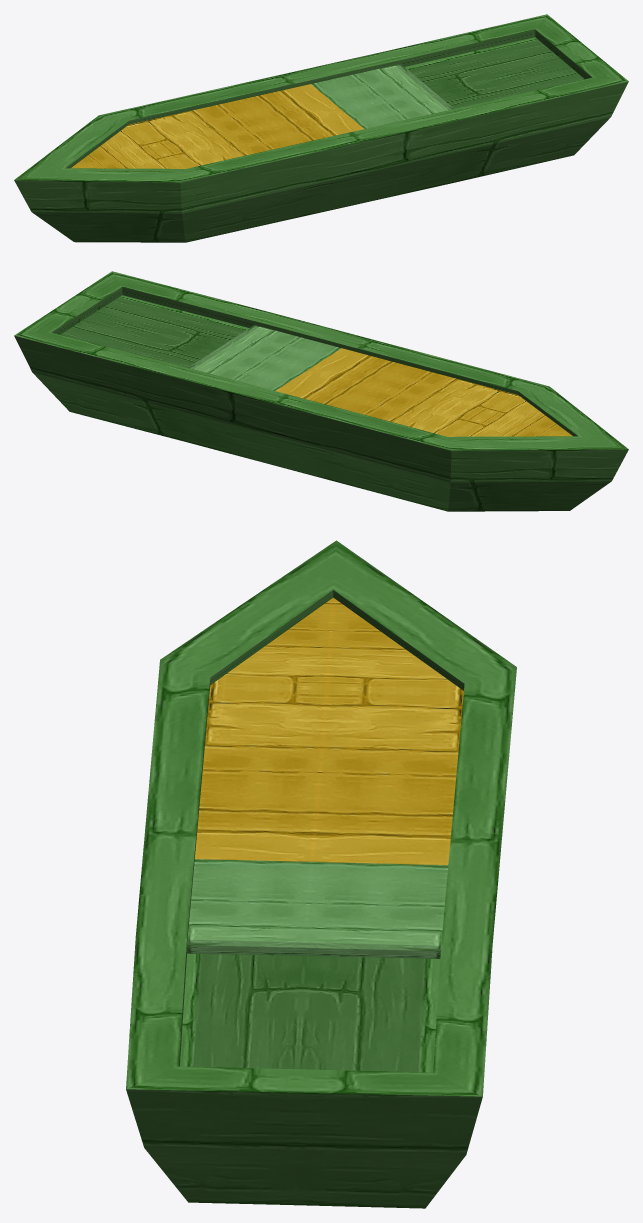
The model's file is chuanti1.FBX.
3 views of the same model, one above another, from view 1: azimuth 30°, elevation 25°; view 2: azimuth 150°, elevation 25°; view 3: azimuth 270°, elevation 25° (orthographic). The views are drawn at different scales.
Parts seen in each view (by area): view 1: Object024; view 2: Object024; view 3: Object024.
Boxes of the visible parts, x1,y1,x2,y2 form: Object024: [14, 14, 628, 242]; Object024: [14, 271, 628, 511]; Object024: [126, 540, 516, 1208].
Size of the model in its own units: 81269 by 10325 by 24148.
